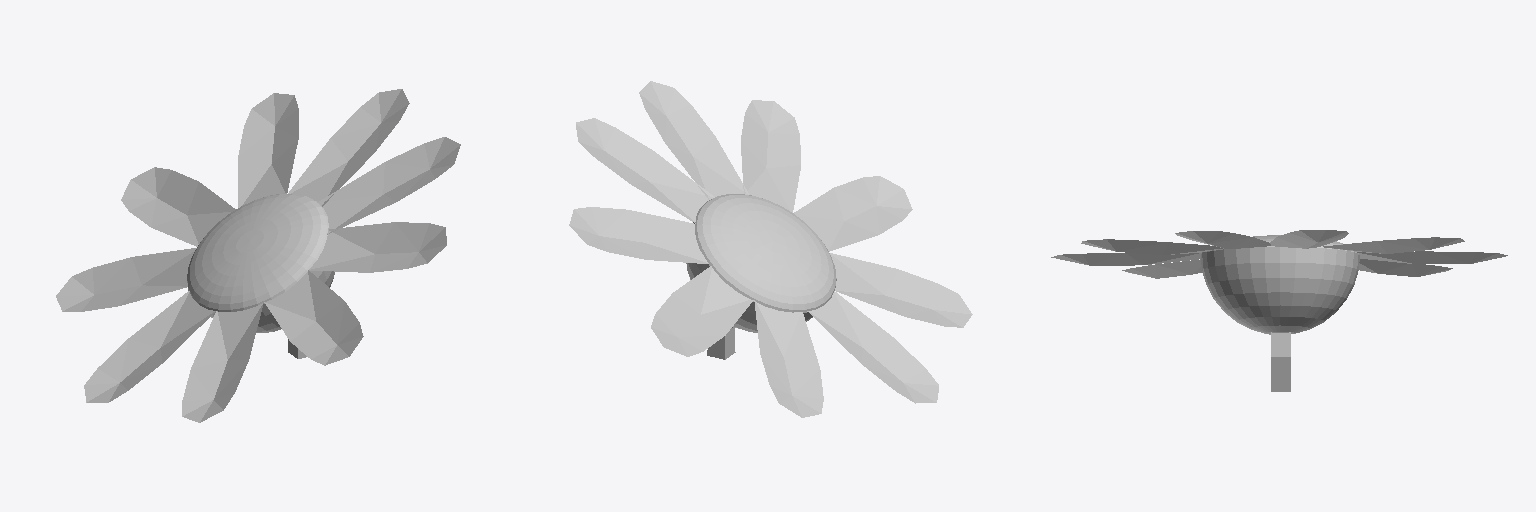
The model's file is flower.obj.
3 views of the same model, side by side, from view 1: azimuth 30°, elevation 25°; view 2: azimuth 150°, elevation 25°; view 3: azimuth 270°, elevation 25° (orthographic).
Parts seen in each view (by area): view 1: 구체, blossom.002, blossom.001, blossom.004, blossom.003, blossom.008, blossom, blossom.006, blossom.007, blossom.005; view 2: 구체, blossom.001, blossom.003, blossom.002, blossom.008, blossom, blossom.004, blossom.006, blossom.007, blossom.005, stem.001; view 3: 구체, blossom.003, blossom.005, blossom.002, blossom.006, stem.001, blossom.008, blossom.007, blossom.004, blossom.001.
Part boxes in pixels (x1,y1,x2,y2): 구체: (187, 193, 334, 332); blossom.002: (309, 222, 446, 272); blossom.001: (182, 303, 263, 422); blossom.004: (56, 248, 196, 311); blossom.003: (264, 270, 363, 365); blossom.008: (317, 137, 460, 234); blossom: (84, 291, 215, 402); blossom.006: (238, 93, 298, 207); blossom.007: (288, 89, 409, 206); blossom.005: (121, 167, 235, 246); 구체: (686, 194, 836, 332); blossom.001: (830, 253, 972, 327); blossom.003: (794, 176, 912, 251); blossom.002: (741, 100, 800, 212); blossom.008: (639, 81, 748, 199); blossom: (807, 291, 938, 403); blossom.004: (754, 300, 823, 417); blossom.006: (569, 207, 708, 263); blossom.007: (576, 118, 714, 223); blossom.005: (651, 266, 753, 356); stem.001: (707, 327, 735, 359); 구체: (1201, 235, 1359, 334); blossom.003: (1051, 252, 1202, 265); blossom.005: (1357, 251, 1507, 263); blossom.002: (1081, 239, 1223, 254); blossom.006: (1323, 237, 1464, 253); stem.001: (1271, 332, 1290, 391); blossom.008: (1175, 231, 1270, 248); blossom.007: (1270, 230, 1348, 248); blossom.004: (1359, 259, 1452, 276); blossom.001: (1122, 259, 1202, 278).
Bounding box in the file's own units: 1.58 × 0.9715 × 1.85.